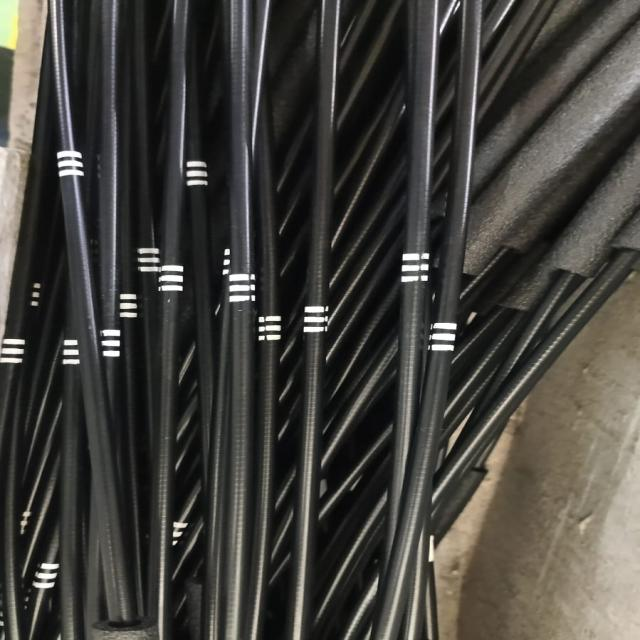white: (401, 254, 430, 282), (55, 149, 83, 177), (230, 275, 256, 304), (158, 265, 183, 293), (432, 323, 456, 352), (305, 307, 331, 333), (257, 316, 284, 341), (185, 162, 209, 186), (2, 338, 25, 363), (63, 340, 85, 365), (102, 331, 123, 357), (140, 248, 160, 274), (117, 294, 138, 317)
